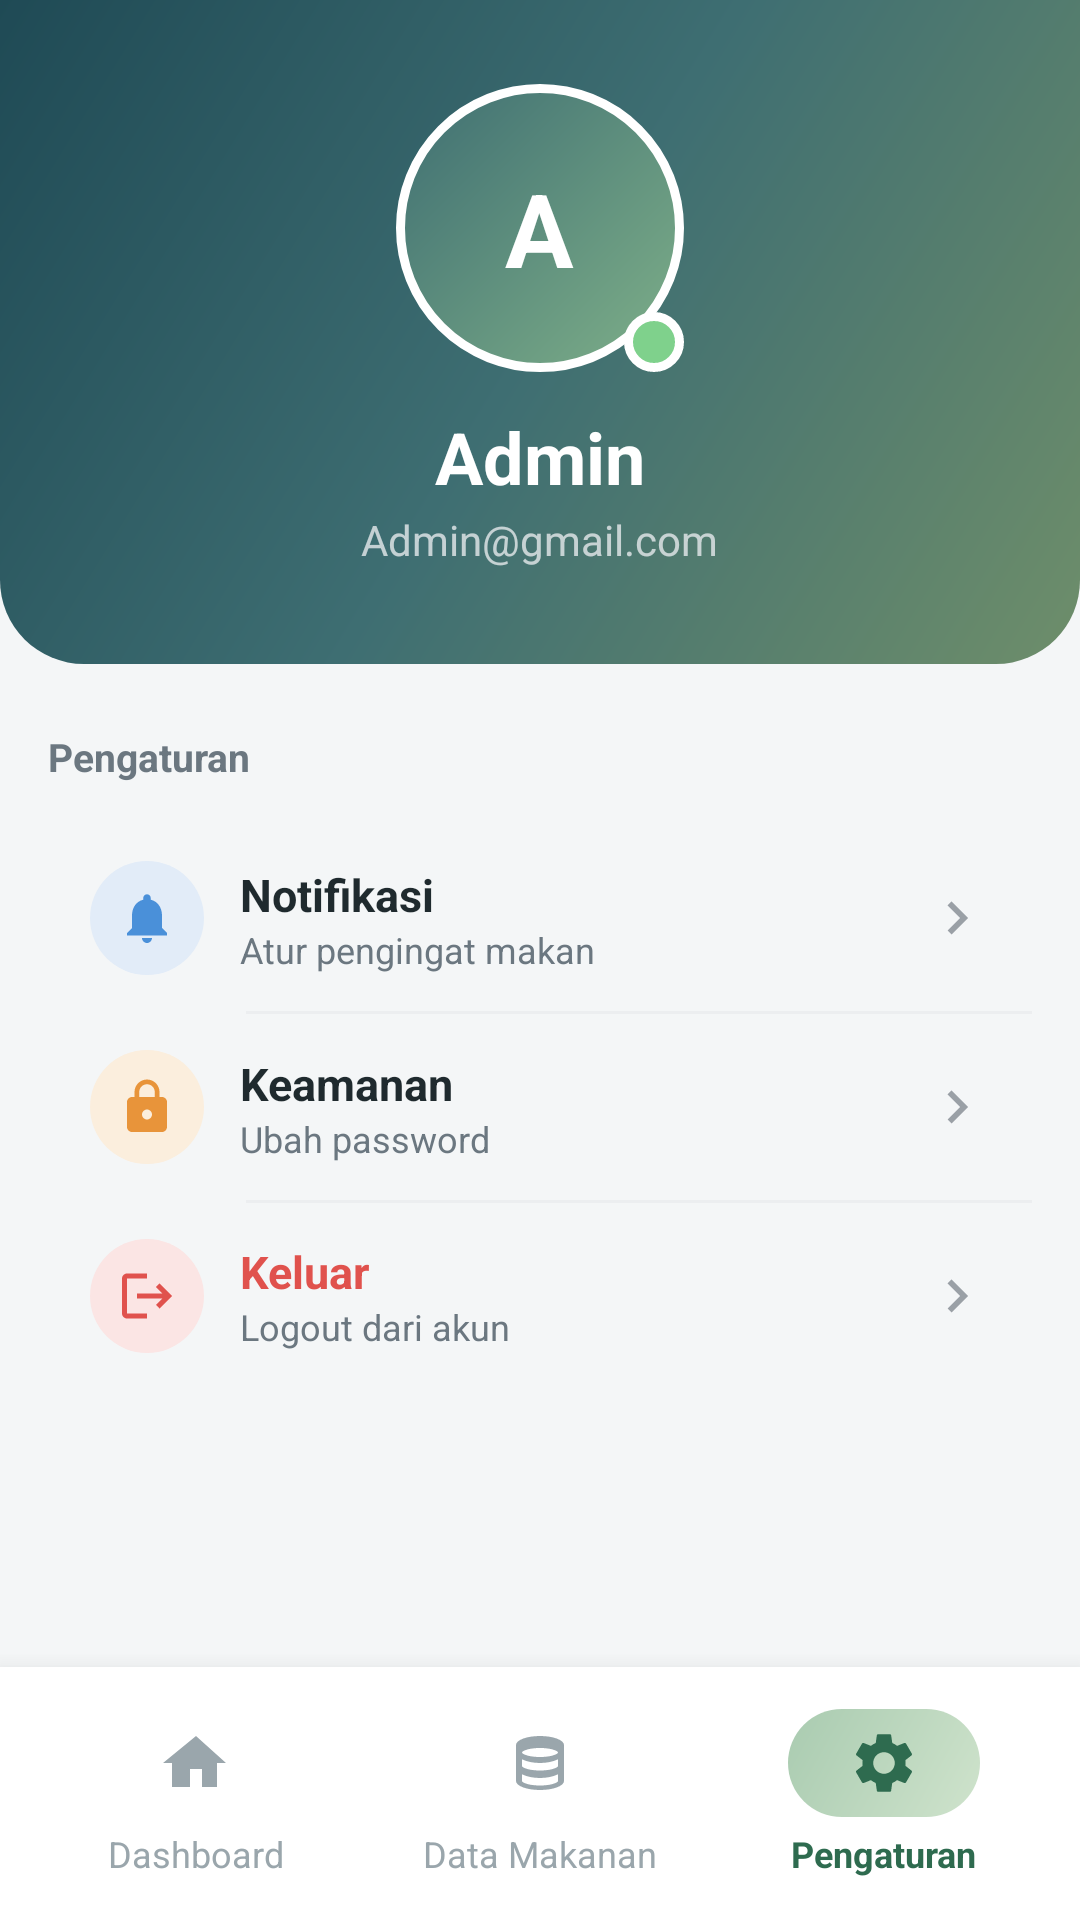

Screen size 1080w x 1920h. Icon name, then its box in pixels as box=[x1, y1, x2, y2]:
bell: box=[127, 894, 167, 943]
lock: box=[127, 1079, 167, 1132]
